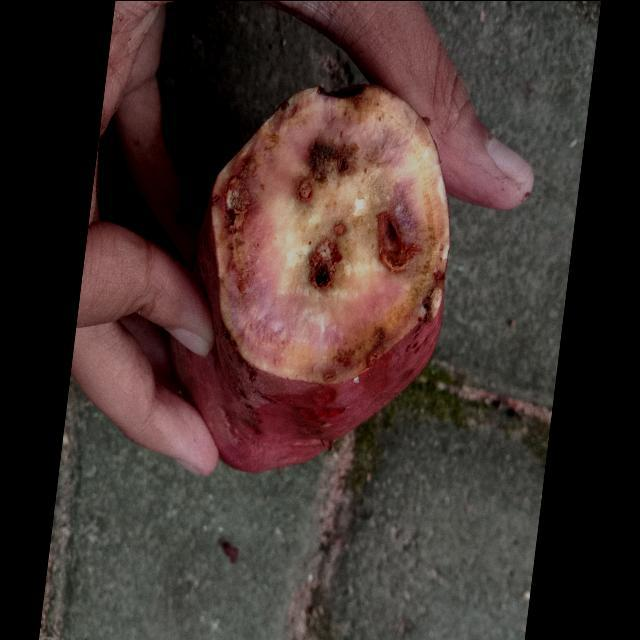Sick Sweet Potato_Tuber Rot: (198, 85, 449, 383)
